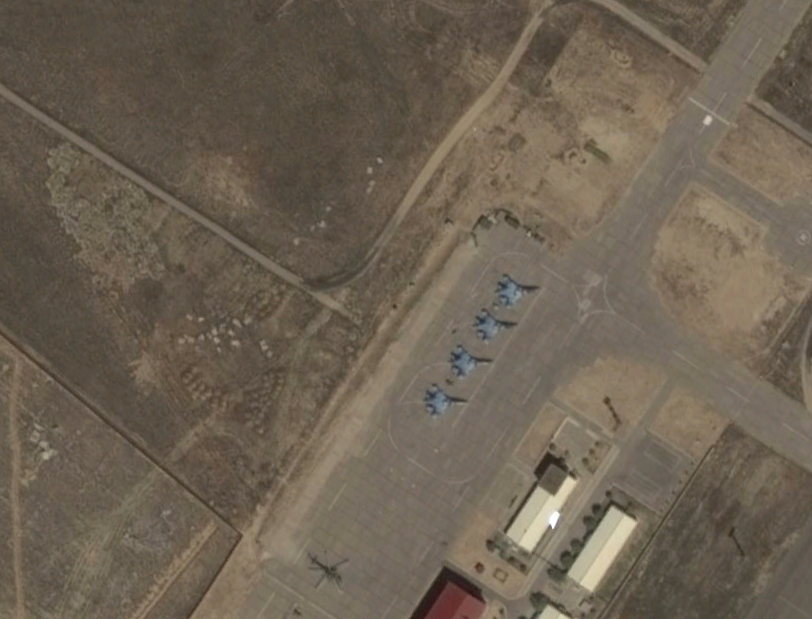A1: (493, 270, 542, 310), (471, 305, 520, 344), (422, 382, 468, 419), (449, 340, 493, 378)
